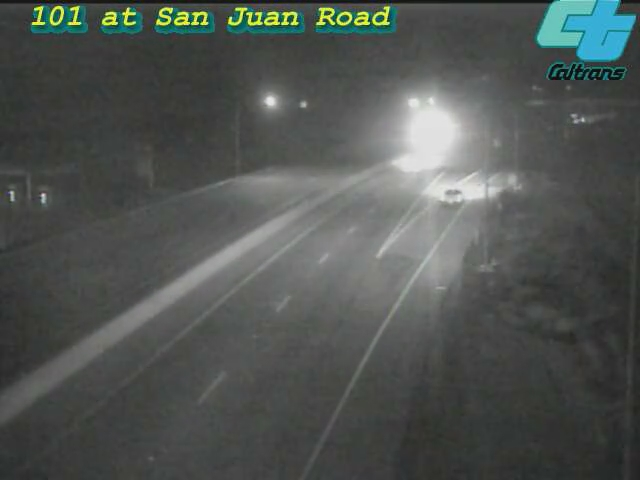vehicle: (377, 121, 457, 201), (413, 159, 493, 239), (407, 104, 457, 154), (552, 93, 602, 143)
